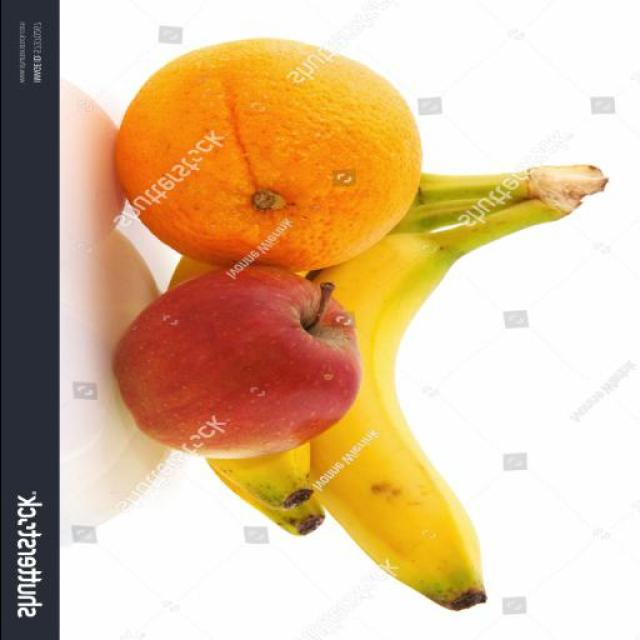1: (206, 441, 328, 534)
Apple: (115, 267, 360, 460)
Banana: (309, 197, 577, 610), (408, 165, 604, 210)
Orange: (114, 39, 421, 270)
